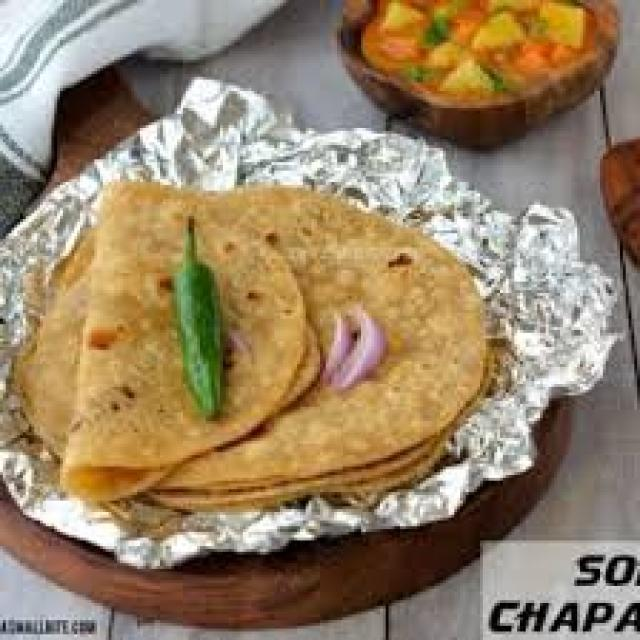CHAPATHI: (15, 179, 493, 505)
